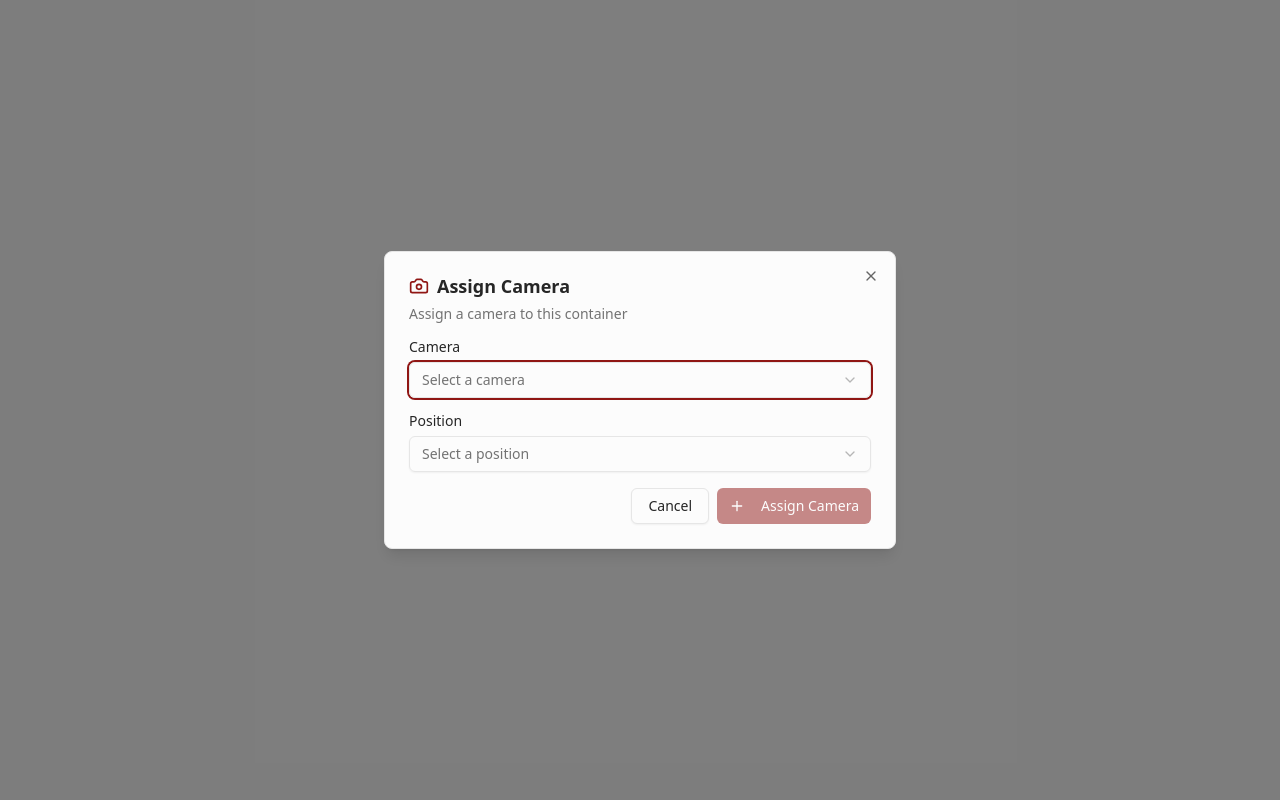
it: AssignCameraDialog › Camera Selection › displays camera status in dropdown options
Note: Open dropdown
Click the dropdown with test id "camera-select" at (473, 380), box left=409, top=362, right=871, bottom=398
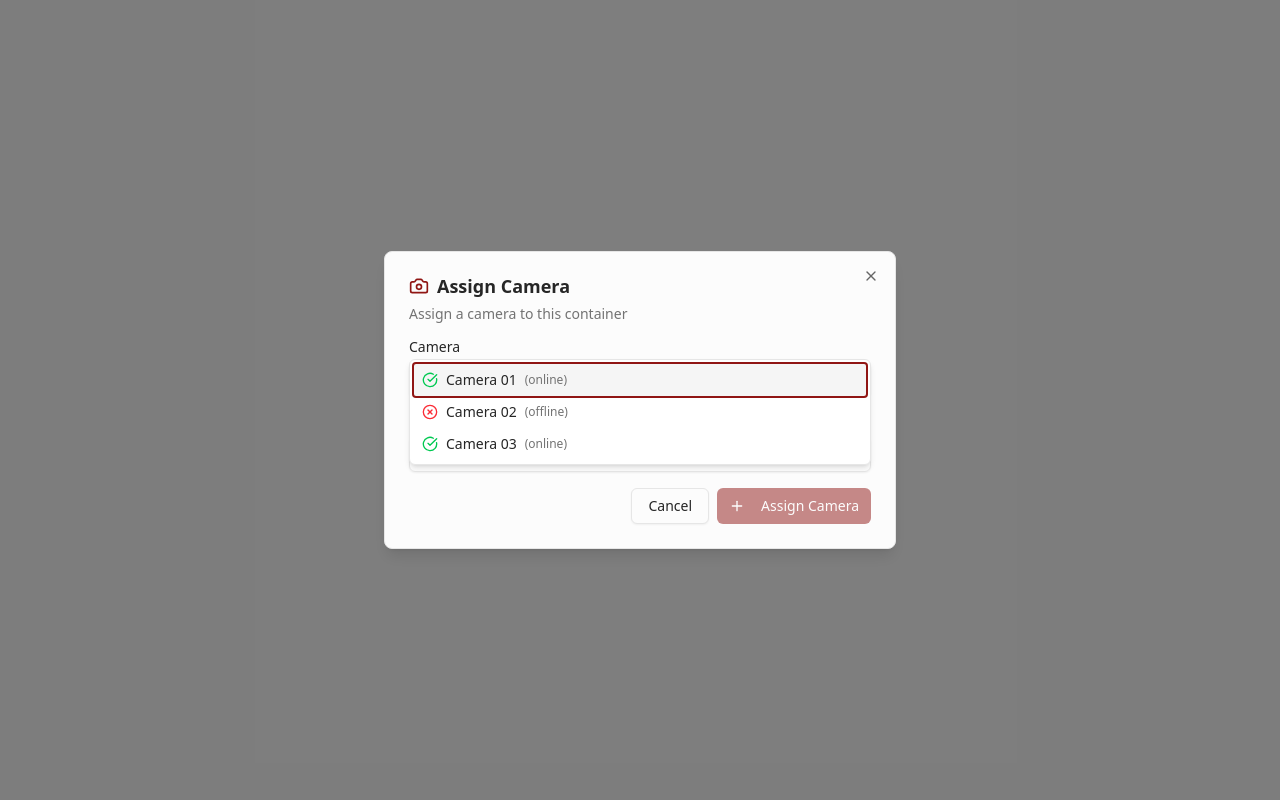
Expected: the text "(online)" next to "Camera 01" is shown, left=528, top=371, right=563, bottom=388
Expected: the text "(offline)" is shown, left=525, top=404, right=568, bottom=420
